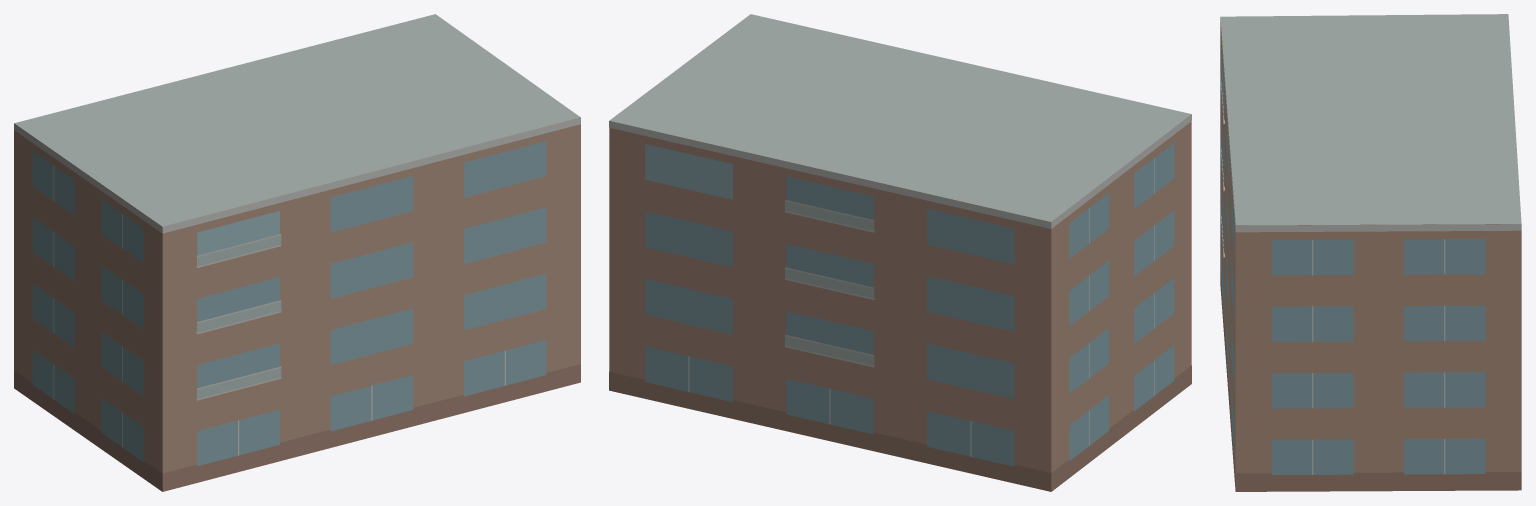
The model's file is survey-upis-32599602.glb.
3 views of the same model, side by side, from view 1: azimuth 30°, elevation 25°; view 2: azimuth 150°, elevation 25°; view 3: azimuth 270°, elevation 25° (orthographic).
Parts seen in each view (by area): view 1: survey-upis-32599602.tmp; view 2: survey-upis-32599602.tmp; view 3: survey-upis-32599602.tmp.
Boxes of the visible parts, x1=… form: survey-upis-32599602.tmp: x1=14, y1=14, x2=580, y2=491; survey-upis-32599602.tmp: x1=609, y1=14, x2=1191, y2=491; survey-upis-32599602.tmp: x1=1220, y1=14, x2=1521, y2=491.
Bounding box in the file's own units: 16.18 × 9.5 × 9.74.
